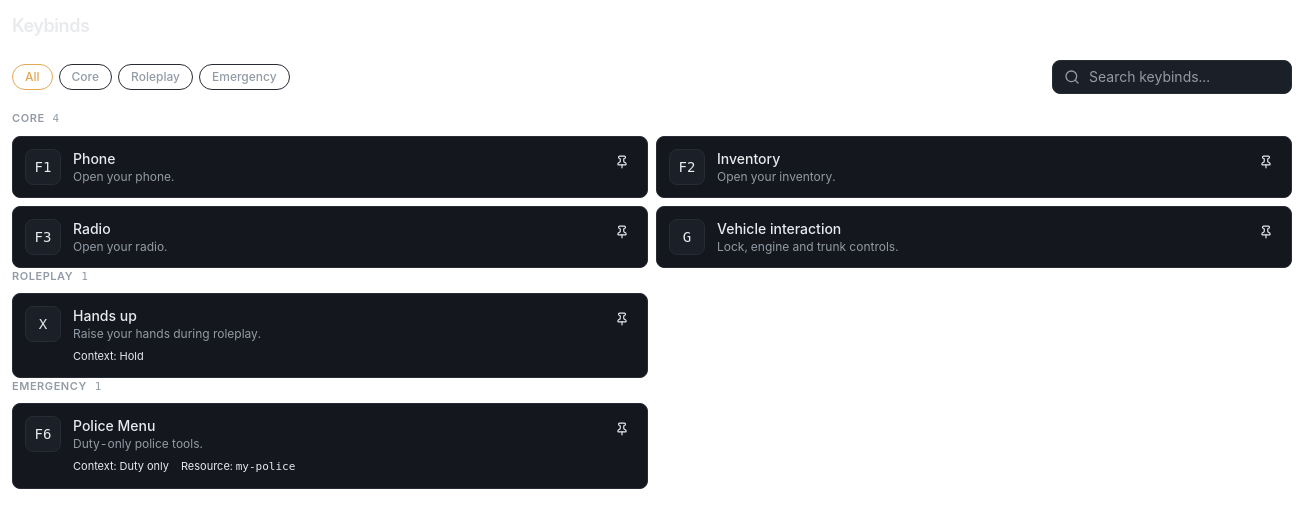
Test: KeybindsPage › filters by resource name
Step 1. Type "my-police" into the search field → (1172, 77), box [1052,60,1292,94]
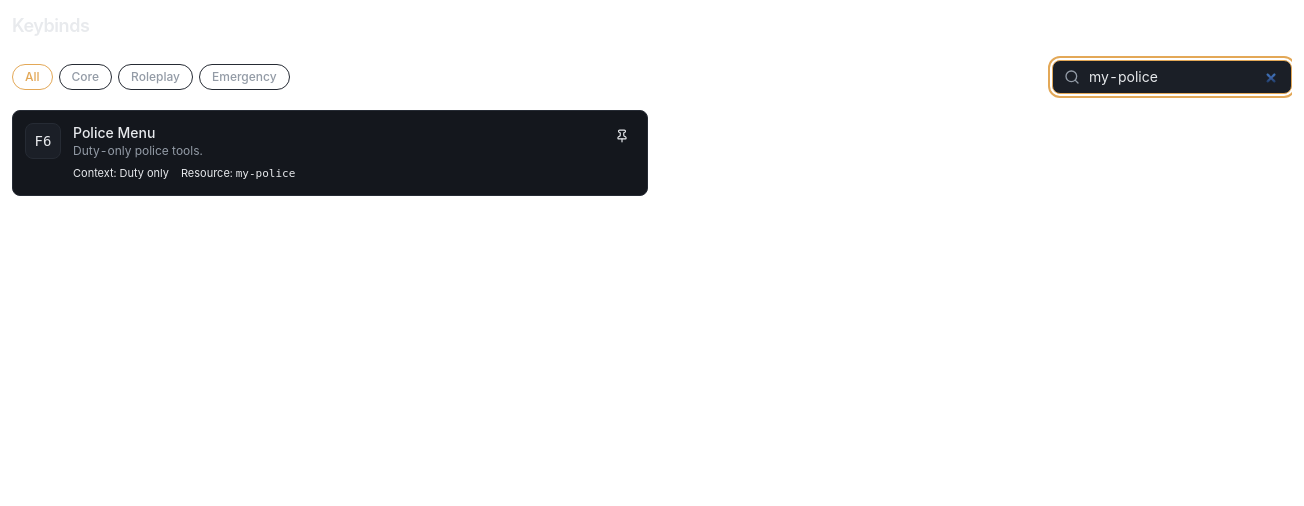
Expected: the text "Police Menu" is shown, [73,124,155,141]
Result: the text "Phone" is gone
